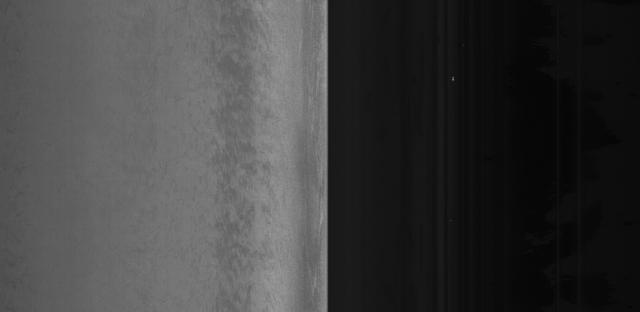silk_spot: (219, 104, 278, 191)
